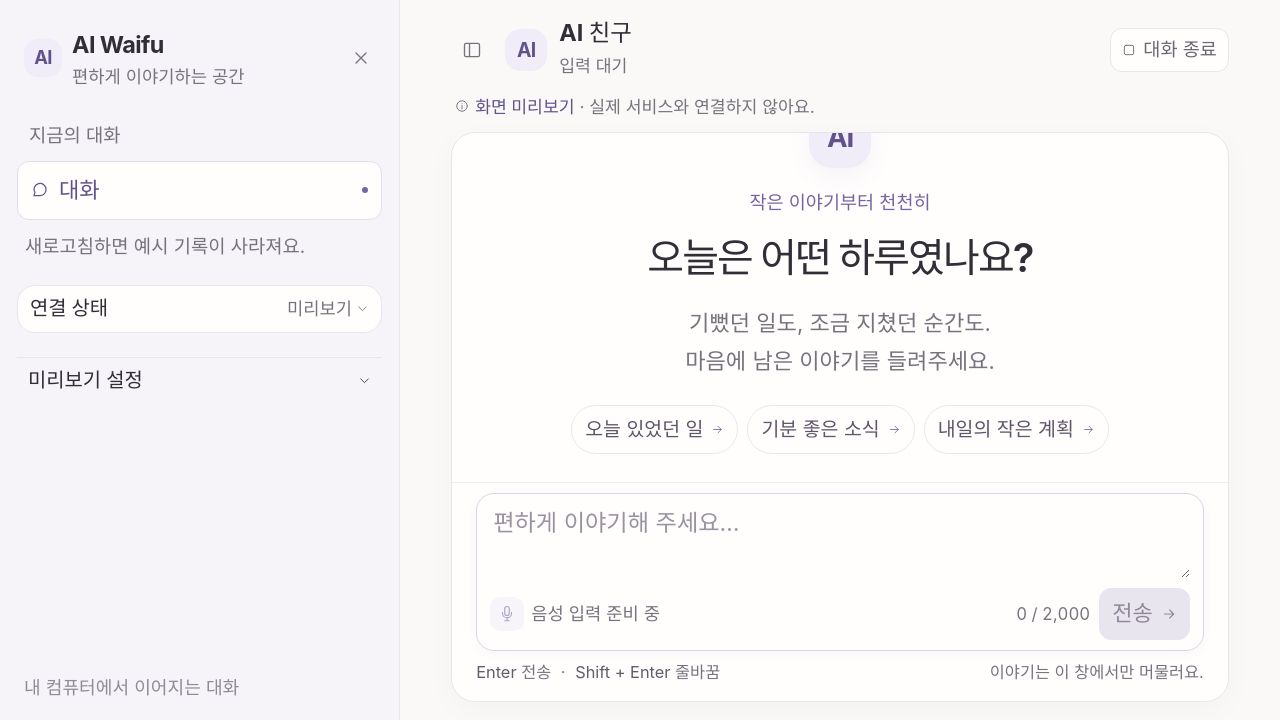
Test: single-session screen preview › keeps the subtitle after synthesis failure and accepts the next turn
This screenshot has width=1280, height=720.
(page scrolled)
Click the heading "미리보기 설정": x=85, y=380 x1=28 y1=368 x2=371 y2=392
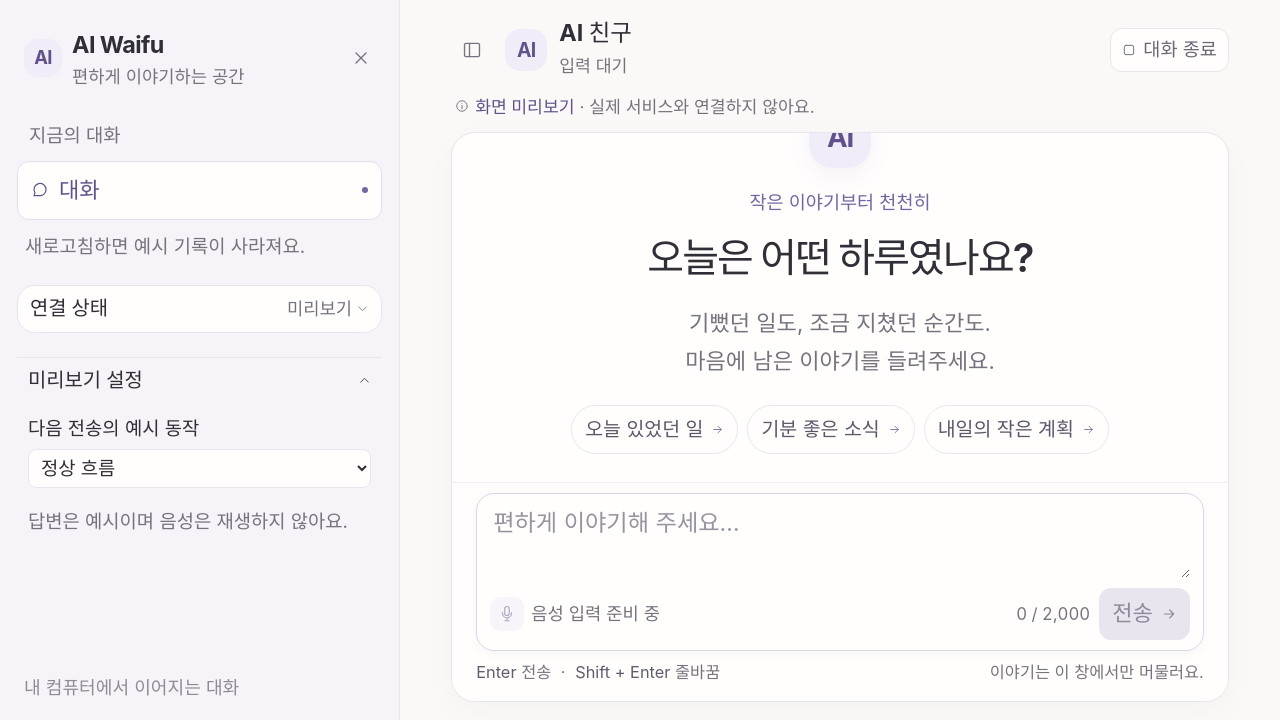
Select "음성 합성 오류" in the dropdown labelled "다음 전송의 예시 동작": x=200, y=468 x1=28 y1=449 x2=371 y2=488
In the text box named "한국어 메시지": x=840, y=542 x1=490 y1=506 x2=1190 y2=578, type "오늘 학교에서 시험을 봤어."
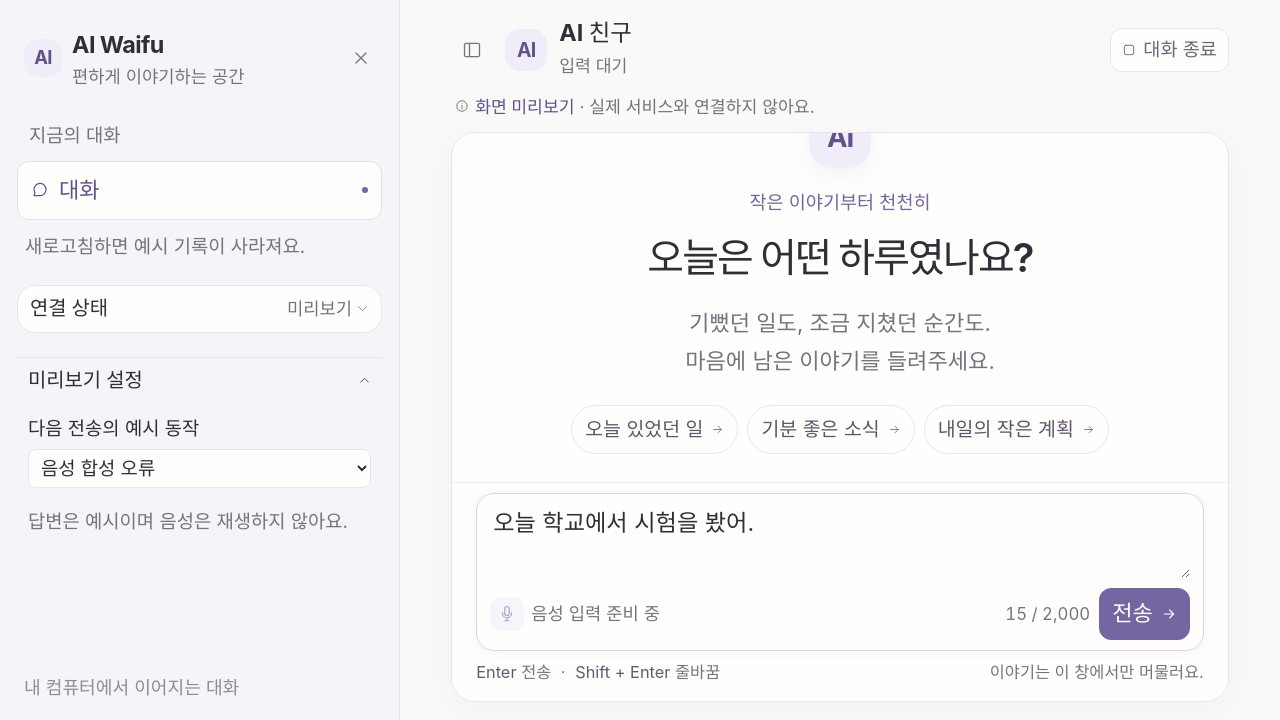
Click the button "전송": x=1145, y=614 x1=1099 y1=588 x2=1190 y2=640
Wait 4500 ms
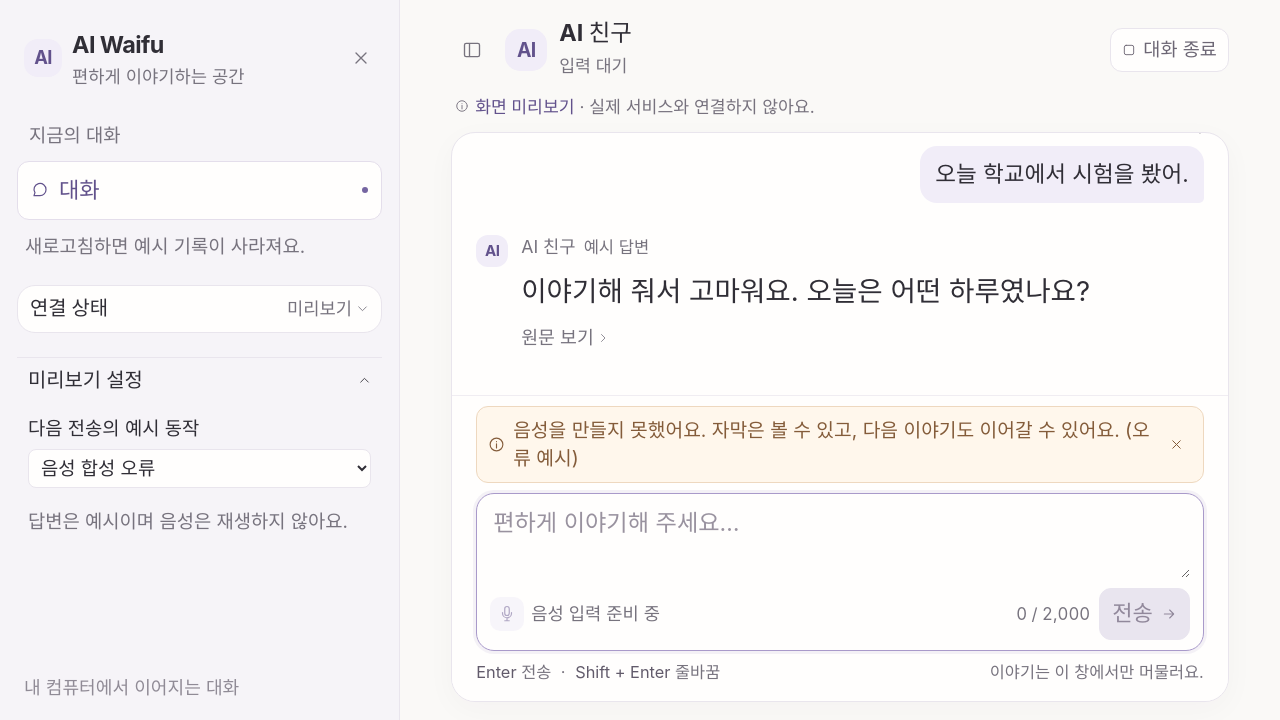
Expected: the text box is enabled, x1=490 y1=506 x2=1190 y2=578
Expected: the message "음성을 만들지 못했어요. 자막은 볼 수 있고, 다음 이야기도 이어갈 수 있어요. (오류 예시)" is shown, x1=476 y1=406 x2=1204 y2=483
Expected: the text "이야기해 줘서 고마워요. 오늘은 어떤 하루였나요?" is shown once, x1=521 y1=267 x2=1090 y2=315
Select "정상 흐름" in the dropdown labelled "다음 전송의 예시 동작": x=200, y=468 x1=28 y1=449 x2=371 y2=488
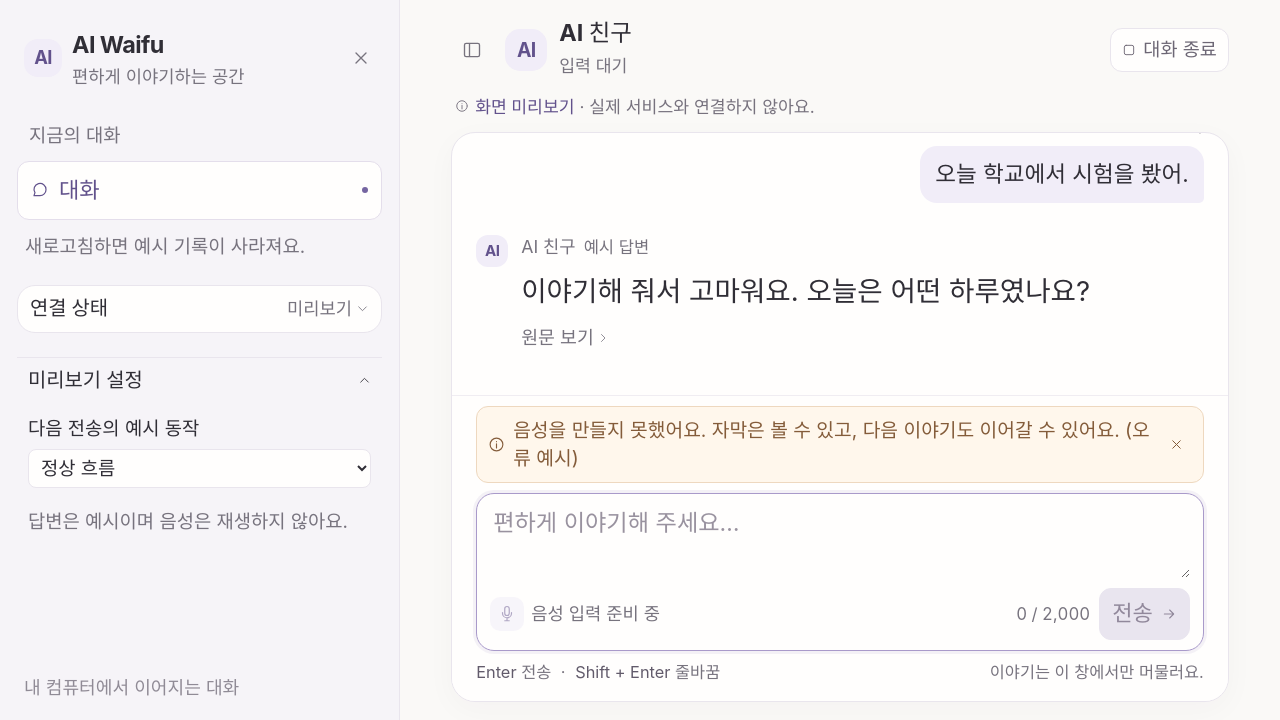
In the text box named "한국어 메시지": x=840, y=542 x1=490 y1=506 x2=1190 y2=578, type "다음 이야기"
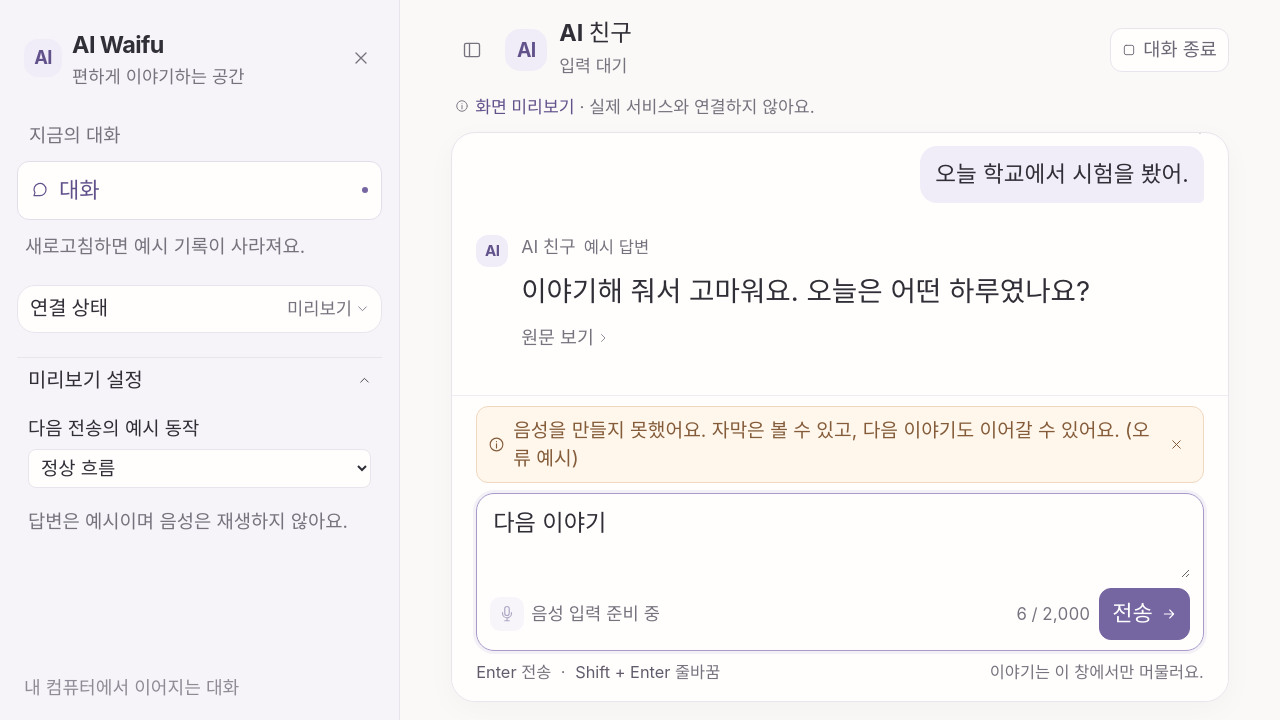
Click the button "전송": x=1145, y=614 x1=1099 y1=588 x2=1190 y2=640
Wait 4500 ms
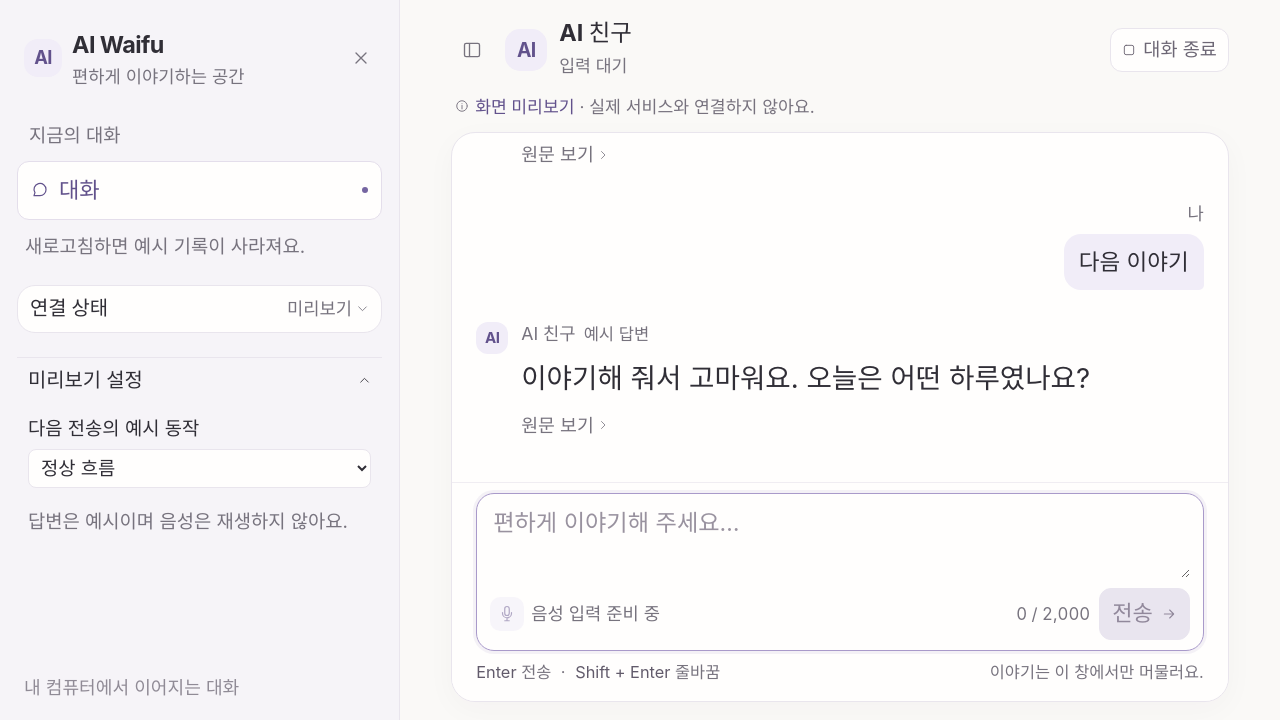
Expected: the message "음성을 만들지 못했어요. 자막은 볼 수 있고, 다음 이야기도 이어갈 수 있어요. (오류 예시)" is gone
